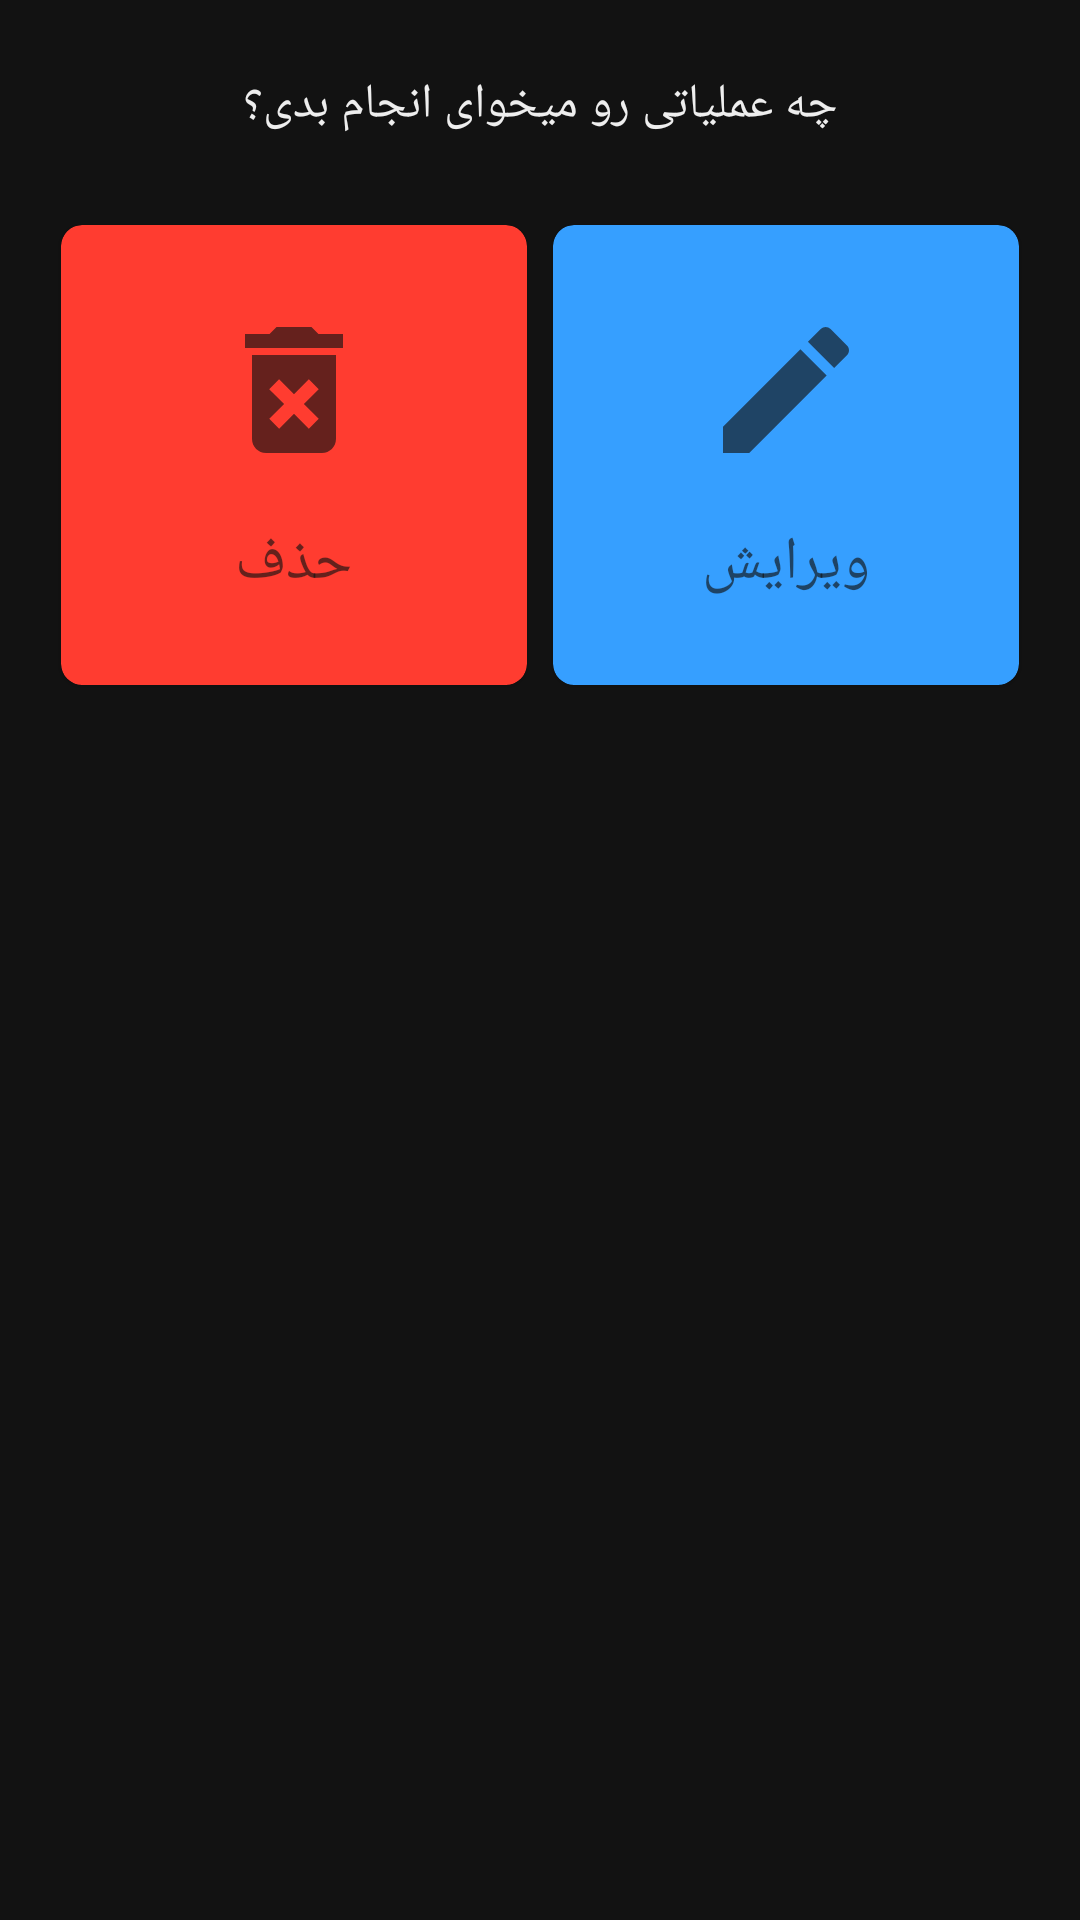

Locate icon controls on the screen. Image size 1080*1920, boxes as rect(x1, y1, x2, y2).
delete: rect(245, 327, 343, 453)
edit: rect(723, 327, 849, 453)
